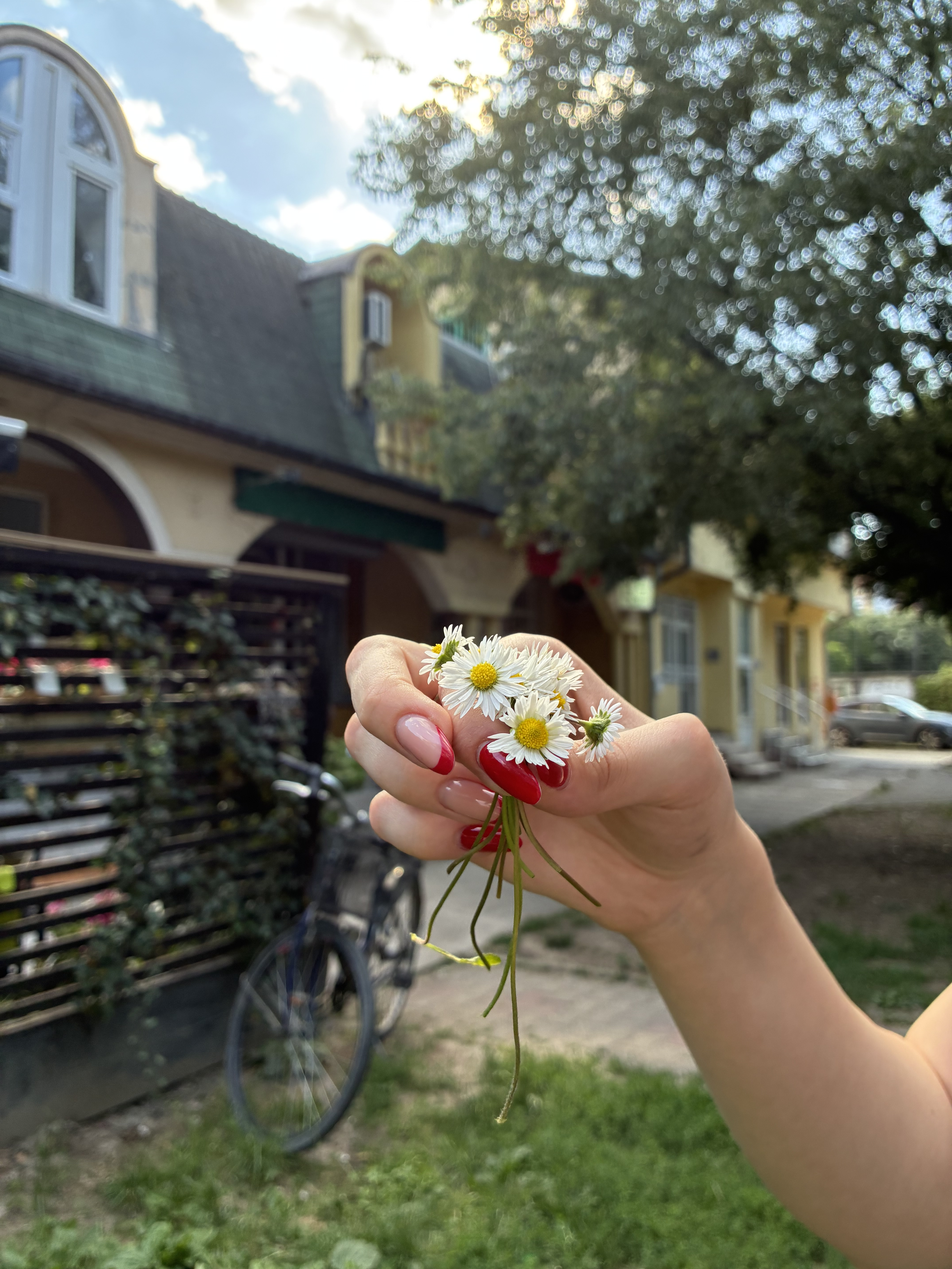daisy: (438, 637, 523, 721), (486, 691, 575, 770), (574, 694, 627, 769), (418, 621, 478, 686), (533, 649, 583, 695), (504, 648, 552, 693), (537, 679, 575, 720)
